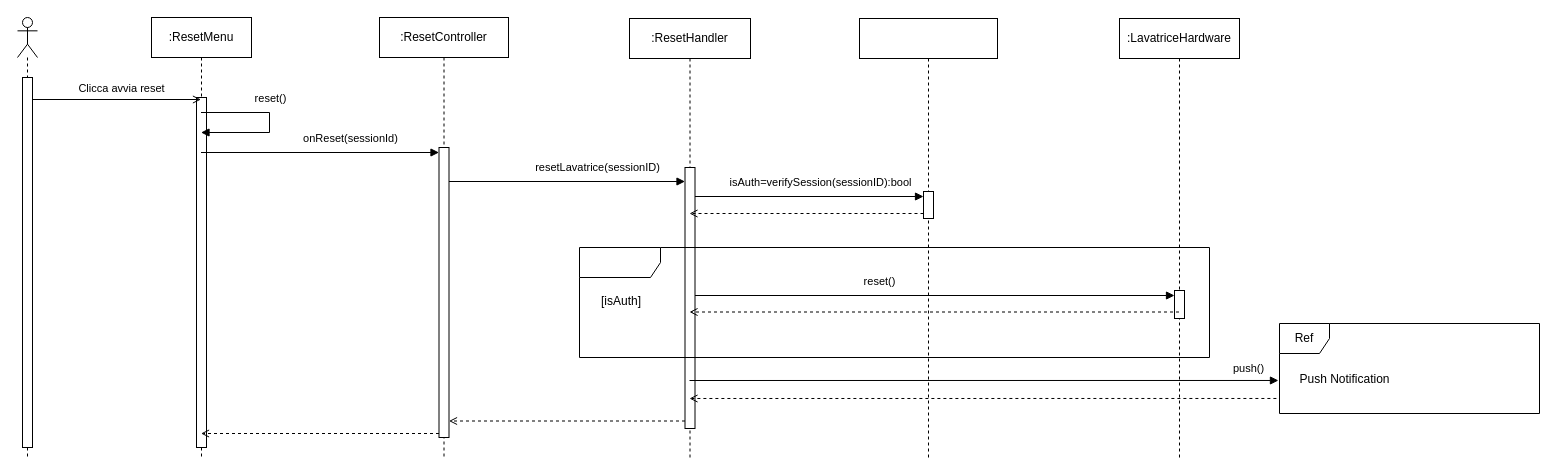
This 1557x475 diagram has some shape labels left out. The shapes that lost their labels are listed below. From the top down, each one's centre as x and y in pixels, then its label:
[928,238]: :AuthenticationService
[894,302]: Alt
